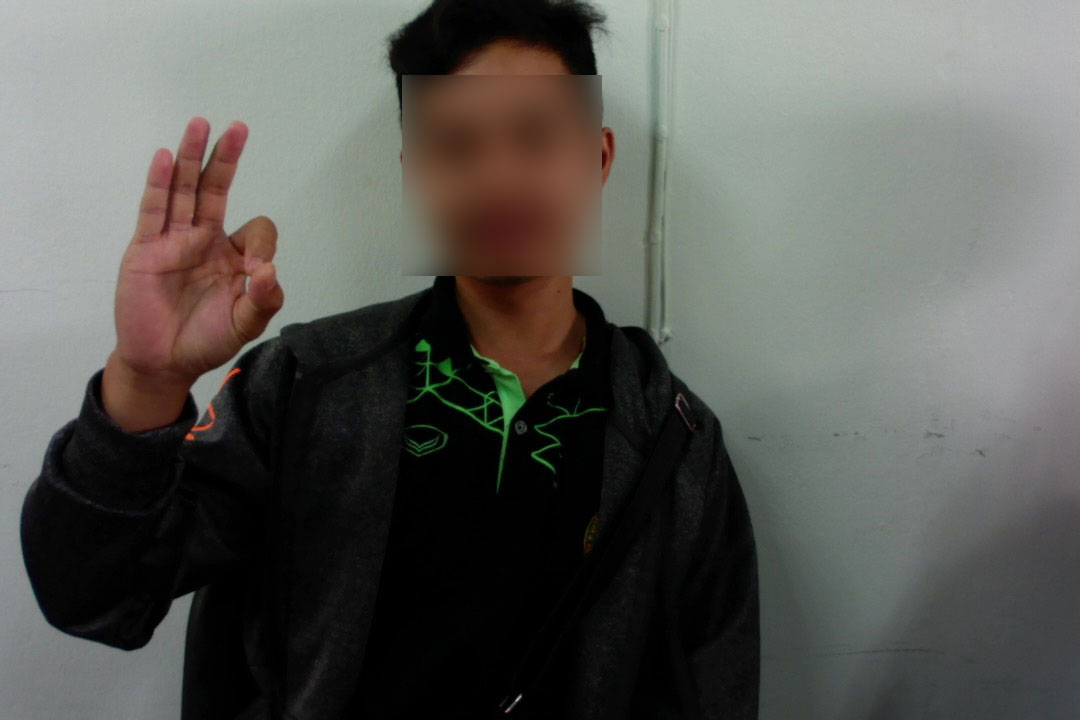for: (105, 110, 288, 390)
